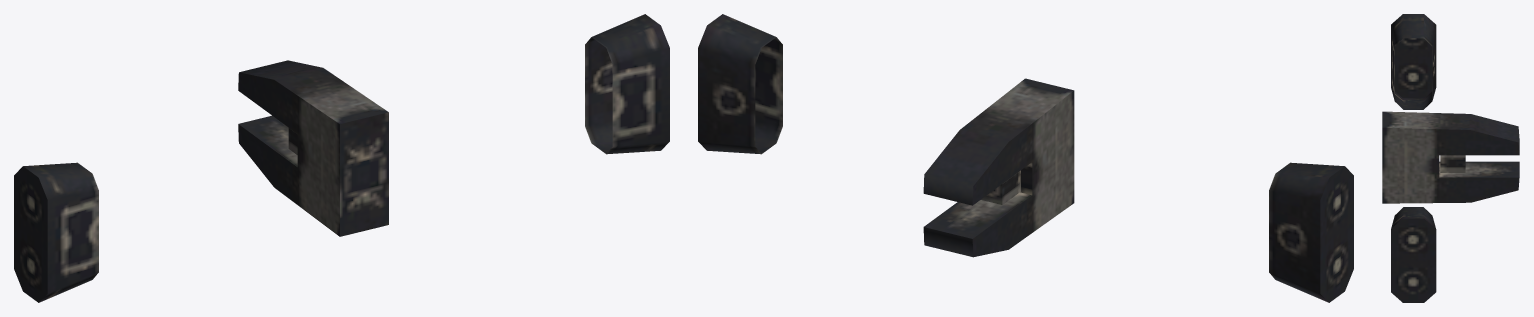
3 renders of one model, left to right at view 1: azimuth 30°, elevation 25°; view 2: azimuth 150°, elevation 25°; view 3: azimuth 270°, elevation 25°, orthographic. The views are drawn at different scales.
Visible parts, largest first — view 1: set_0_group_0; view 2: set_0_group_0; view 3: set_0_group_0.
Part boxes in pixels (x1,y1,x2,y2): set_0_group_0: [14, 14, 669, 302]; set_0_group_0: [698, 14, 1353, 302]; set_0_group_0: [1382, 14, 1519, 302].
Size of the model in its own units: 0.5795 by 0.1118 by 0.164.
Materials: 1 (1 with a texture image).
